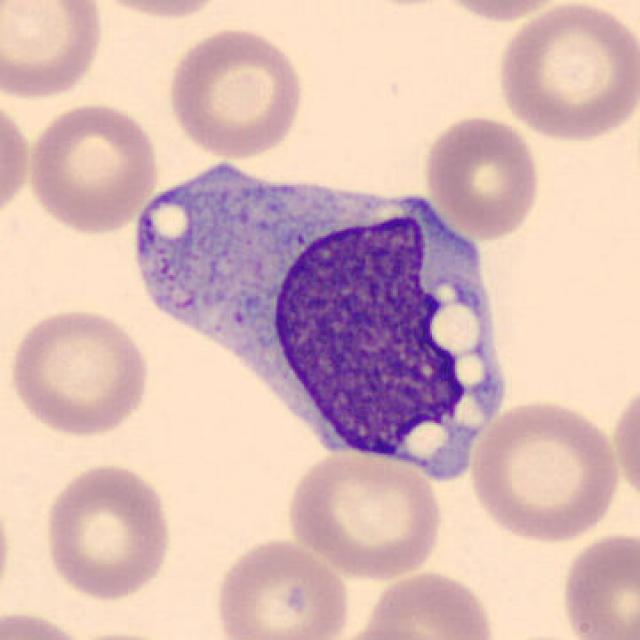Monocyte: (126, 157, 521, 478)
RBC: (466, 395, 624, 545), (283, 448, 446, 580), (492, 0, 638, 145), (5, 303, 153, 439), (39, 458, 176, 603), (164, 23, 308, 160), (23, 99, 162, 236), (420, 111, 544, 242), (210, 534, 354, 640), (0, 0, 106, 102), (362, 567, 499, 640), (556, 529, 638, 640), (0, 90, 32, 227), (610, 376, 640, 508), (428, 0, 580, 25), (0, 606, 96, 640), (82, 0, 235, 21), (322, 622, 453, 640), (0, 485, 14, 613)
